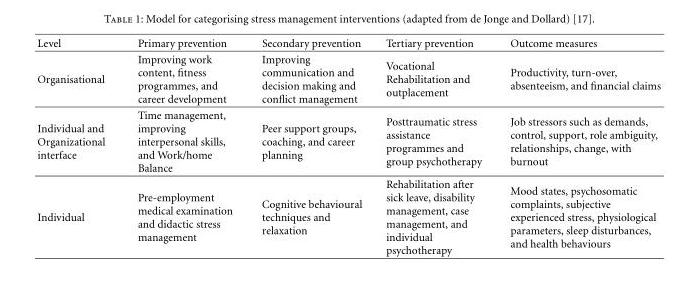table: (36, 36, 659, 255)
table column: (495, 36, 659, 255), (246, 36, 373, 255), (120, 36, 246, 255), (373, 36, 495, 255), (36, 36, 120, 255)
table column header: (36, 36, 659, 50)
table row: (36, 175, 659, 255), (36, 106, 659, 175), (36, 50, 659, 106), (36, 36, 659, 50)
